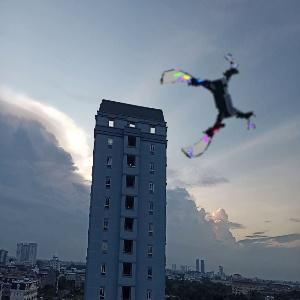drone: (162, 60, 257, 155)
